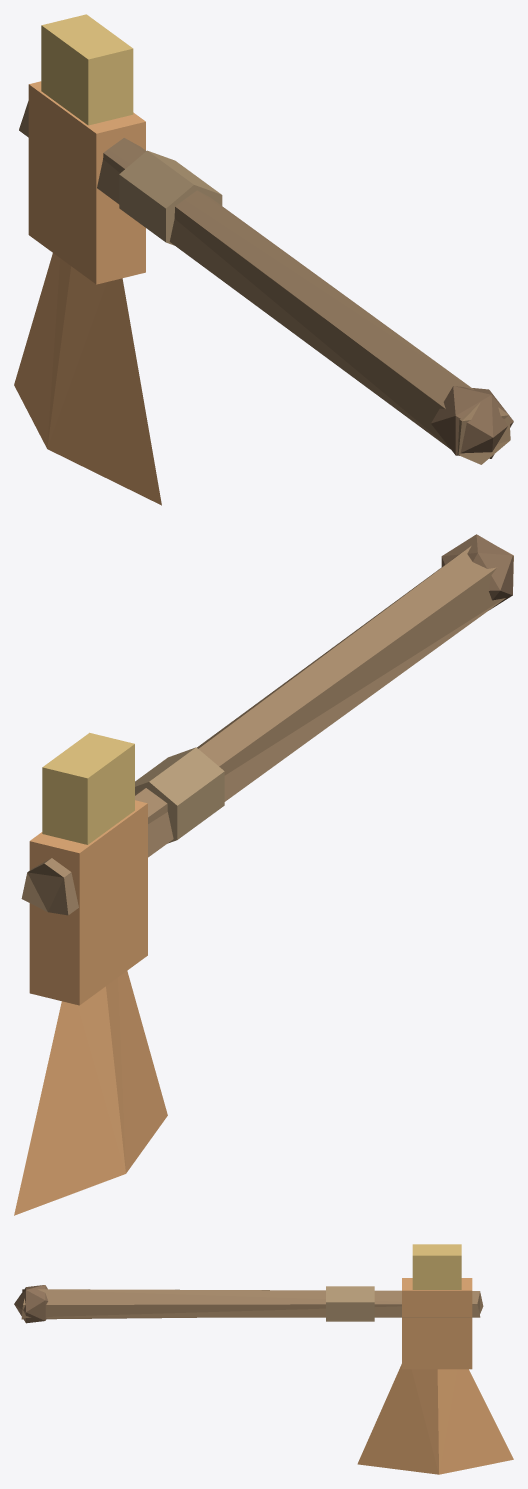
File: AxeCopper.fbx
The picture shows the model from 3 angles, top to bottom: view 1: azimuth 30°, elevation 25°; view 2: azimuth 150°, elevation 25°; view 3: azimuth 270°, elevation 25°; orthographic projection. The views are drawn at different scales.
Parts seen in each view (by area): view 1: fam_copper, fam_wood, fam_gold, fam_leather, fam_wood_dark; view 2: fam_copper, fam_wood, fam_gold, fam_leather, fam_wood_dark; view 3: fam_copper, fam_wood, fam_gold, fam_leather, fam_wood_dark.
Boxes of the visible parts, left/top/right/bottom form: fam_copper: left=14, top=81, right=161, bottom=505; fam_wood: left=19, top=101, right=510, bottom=464; fam_gold: left=41, top=14, right=133, bottom=125; fam_leather: left=119, top=150, right=222, bottom=245; fam_wood_dark: left=431, top=386, right=513, bottom=458; fam_copper: left=14, top=800, right=167, bottom=1215; fam_wood: left=21, top=546, right=513, bottom=915; fam_gold: left=42, top=732, right=134, bottom=844; fam_leather: left=135, top=747, right=224, bottom=843; fam_wood_dark: left=441, top=534, right=512, bottom=609; fam_copper: left=357, top=1278, right=513, bottom=1474; fam_wood: left=21, top=1289, right=483, bottom=1319; fam_gold: left=412, top=1244, right=461, bottom=1289; fam_leather: left=326, top=1286, right=374, bottom=1321; fam_wood_dark: left=14, top=1285, right=48, bottom=1323.
Size of the model in its own units: 0.2978 by 1.53 by 3.23.
